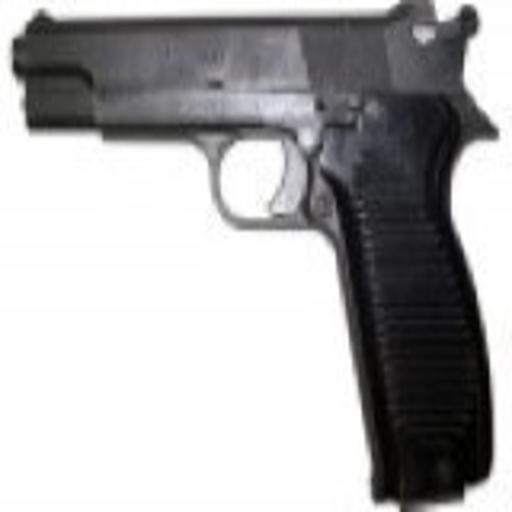Handgun: (11, 11, 501, 502)
